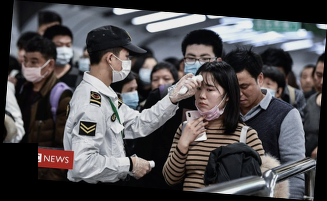mask_weared_incorrect: (192, 82, 224, 122)
with_mask: (183, 51, 214, 79), (20, 55, 46, 84), (112, 51, 133, 85), (52, 40, 74, 67), (119, 83, 140, 110), (138, 62, 157, 86), (78, 52, 91, 74)
without_mask: (235, 80, 258, 109), (299, 72, 317, 94), (312, 70, 323, 96)
